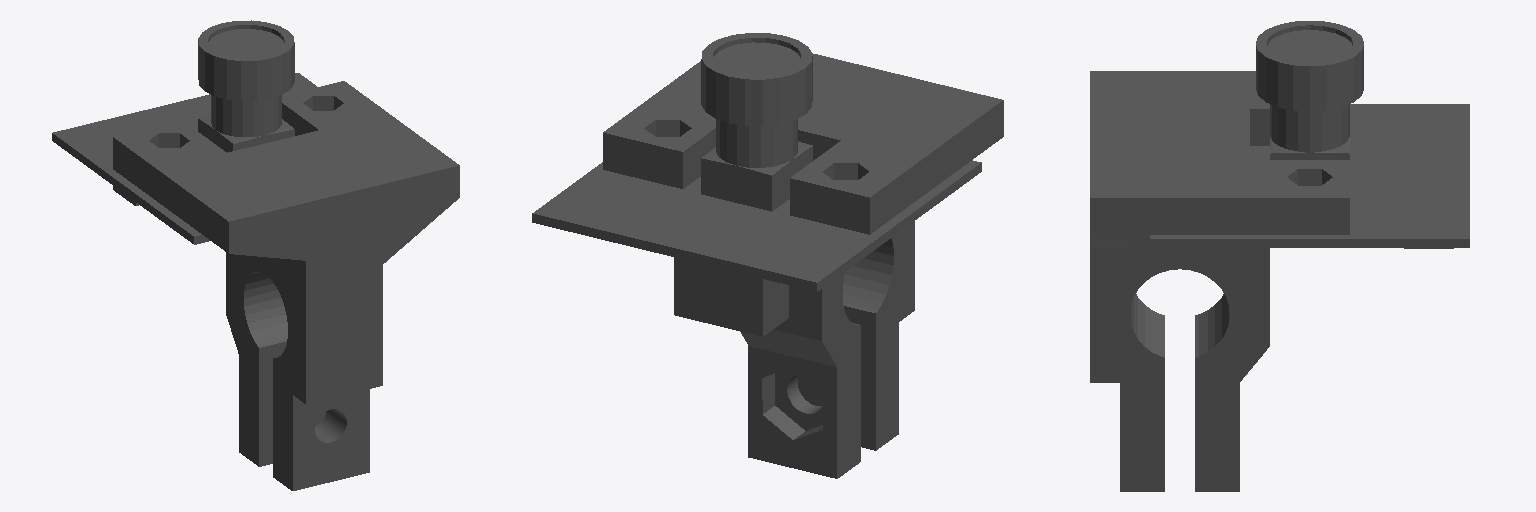
robot.urdf — Camera:
<?xml version="1.0" ?>
<robot name="Camera">

 	<link name="world"/>

    <link name="camera_link">
        <visual>
            <origin rpy="0 0 0" xyz="0.0 0.0 0.0"/>
              <geometry>
                  <mesh filename="assets/meshes/camera_with_holder.dae"/>
              </geometry>
              <material name="gray">
                <color rgba="0.4 0.4 0.4 1.0"/>
              </material>
        </visual>
        <collision>
              <origin rpy="0 0 0" xyz="0.0 0.0 -0.01"/>
              <geometry>
                  <box size="0.06 0.04 0.04"/>
              </geometry>
        </collision>
        <collision>
              <origin rpy="1.5708 0 0" xyz="0.0 0.028 0.0"/>
              <geometry>
                  <cylinder radius="0.016" length="0.056"/>
              </geometry>
        </collision>
        <inertial>
            <mass value="1"/>
            <inertia ixx="0.0001" ixy="0" ixz="0" iyy="0.0001" iyz="0" izz="0.00001"/>
        </inertial>
    </link>

    <joint name="world_joint" type="fixed">
        <parent link="world"/>
        <child link="camera_link"/>
        <origin rpy="0 1.5708 -1.5708" xyz="0.0 -0.013 -0.013"/>
    </joint>
</robot>

--- What the picture shows (computed from the rendered views, not written in the file) ---
The picture shows the robot from 3 angles, left to right: view 1: azimuth 30°, elevation 25°; view 2: azimuth 150°, elevation 25°; view 3: azimuth 270°, elevation 25°; orthographic projection.
Robot: Camera — 2 links, 1 joints (1 fixed); root link world; default pose: all joints at 0.
Visible links, largest first — view 1: camera_link; view 2: camera_link; view 3: camera_link.
Link boxes in pixels (x1,y1,x2,y2): camera_link: (52,20,459,490); camera_link: (532,33,1003,478); camera_link: (1090,21,1469,491).
Size in the robot's own frame: 0.032 by 0.038 by 0.0471 metres.
Meshes: 1 distinct files referenced, 1 mesh visuals loaded (1 Collada DAE).